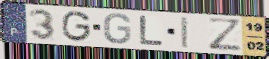3: (28, 8, 57, 41)
G: (61, 10, 93, 43), (102, 12, 132, 45)
I: (180, 16, 190, 49)
L: (138, 14, 166, 47)
Z: (206, 17, 244, 52)
